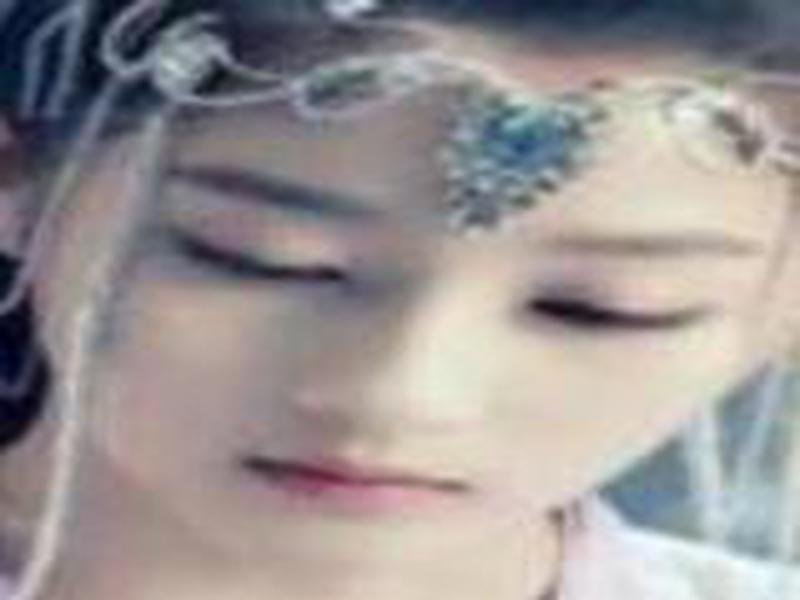without_mask: (31, 50, 791, 570)
